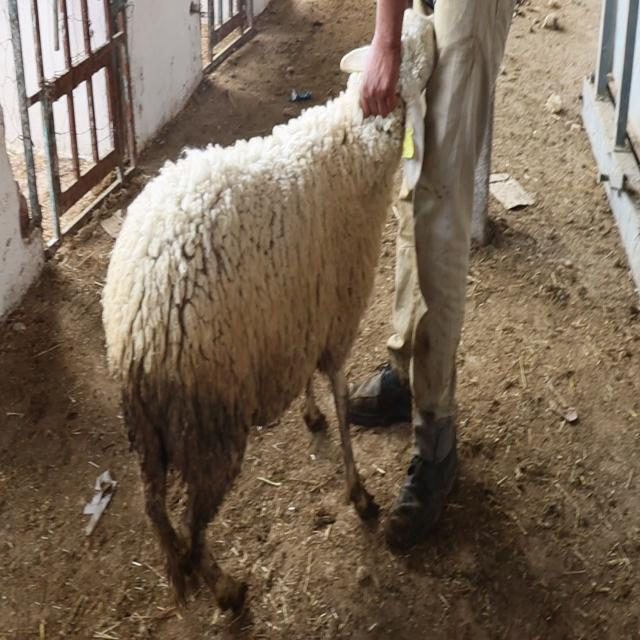Score_3: (102, 0, 436, 609), (341, 46, 371, 72)
